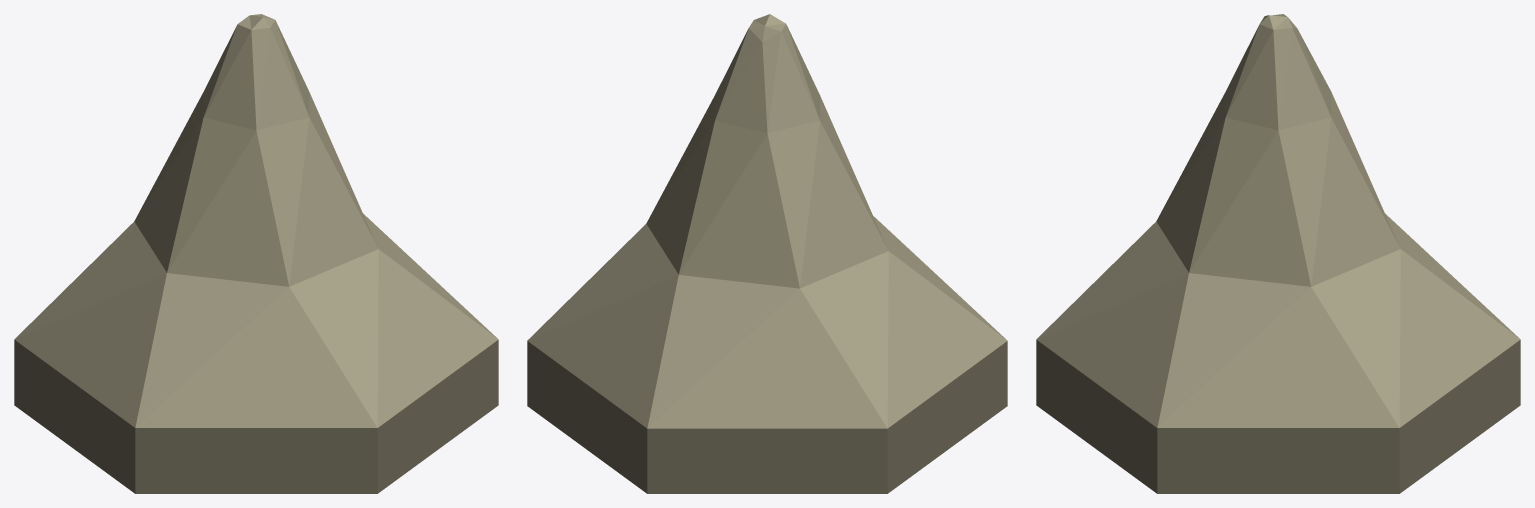
File: StalackshitSmall.fbx
3 views of the same model, side by side, from view 1: azimuth 30°, elevation 25°; view 2: azimuth 150°, elevation 25°; view 3: azimuth 270°, elevation 25° (orthographic).
Visible parts, largest first — view 1: stalackshit.001; view 2: stalackshit.001; view 3: stalackshit.001.
Boxes of the visible parts, left/top/right/bottom form: stalackshit.001: left=14, top=14, right=498, bottom=493; stalackshit.001: left=527, top=14, right=1007, bottom=493; stalackshit.001: left=1036, top=14, right=1520, bottom=493.
Bounding box in the file's own units: 1.73 × 2 × 1.78.
